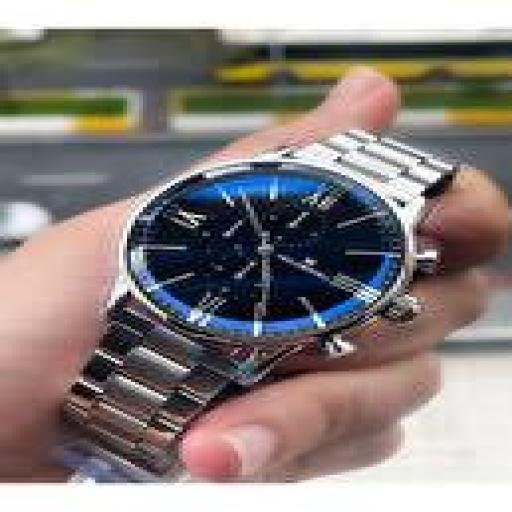KolSaati: (8, 65, 472, 488)
